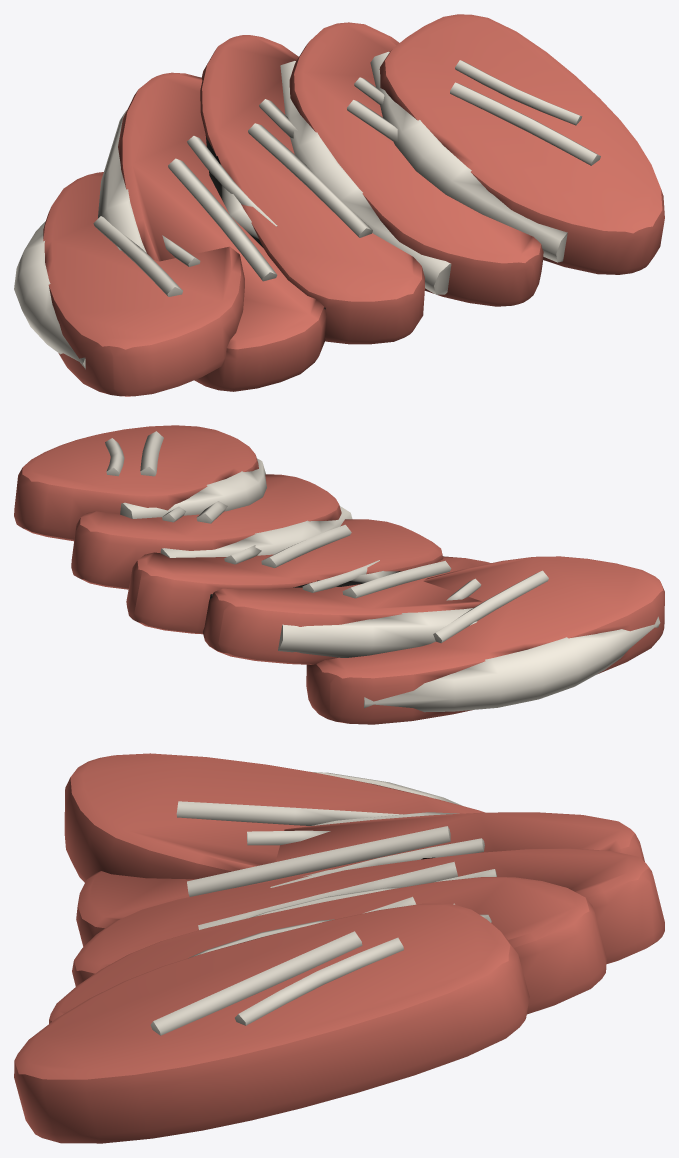
Rendered from prep_beef_slices.glb.
3 views of the same model, one above another, from view 1: azimuth 30°, elevation 25°; view 2: azimuth 150°, elevation 25°; view 3: azimuth 270°, elevation 25° (orthographic). The views are drawn at different scales.
Parts seen in each view (by area): view 1: PART; view 2: PART; view 3: PART.
Part boxes in pixels (bbox=[...]): PART: bbox=[14, 14, 664, 396]; PART: bbox=[14, 425, 664, 724]; PART: bbox=[14, 753, 664, 1143].
Bounding box in the file's own units: 0.1656 × 0.0492 × 0.1202.
